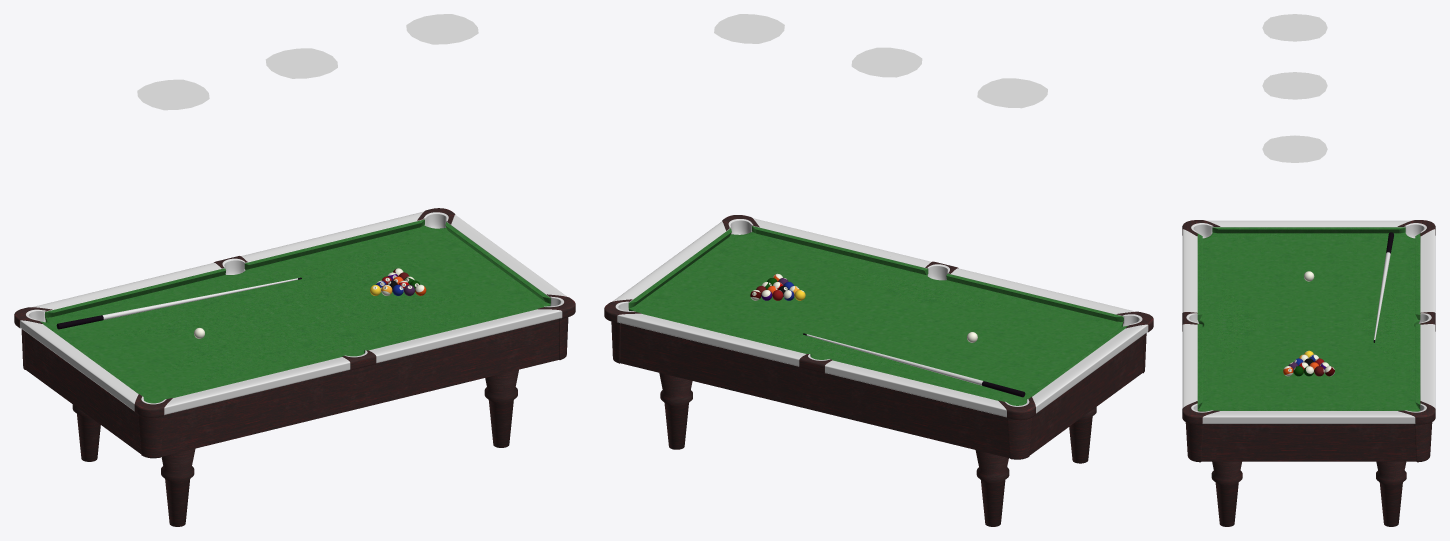
The model's file is Billiardzs.fbx.
The picture shows the model from 3 angles, left to right: view 1: azimuth 30°, elevation 25°; view 2: azimuth 150°, elevation 25°; view 3: azimuth 270°, elevation 25°; orthographic projection. The views are drawn at different scales.
Parts seen in each view (by area): view 1: Plane, Cube.001, Plane.002, tableCushion, tablePocketO, TischBeine.002, TischBeine.003, Plane.000, Plane.004, Plane.001, tableSideCorner, tablePocketI (+2 smaller); view 2: Plane, Cube.001, Plane.002, tableCushion, tablePocketO, TischBeine, TischBeine.001, Plane.001, Plane.000, Plane.004, tableSideCorner, tablePocketI (+2 smaller); view 3: Plane, Plane.002, Cube.001, tableCushion, Plane.001, TischBeine.002, Plane.000, Plane.004, TischBeine.001, tablePocketO, tableSideCorner, tablePocketI (+1 smaller).
Part boxes in pixels (left/top/right/bottom): Plane: left=45, top=225, right=550, bottom=403; Cube.001: left=24, top=317, right=559, bottom=456; Plane.002: left=20, top=211, right=567, bottom=414; tableCushion: left=40, top=219, right=550, bottom=398; tablePocketO: left=14, top=208, right=575, bottom=417; TischBeine.002: left=484, top=369, right=518, bottom=447; TischBeine.003: left=161, top=449, right=195, bottom=526; Plane.000: left=137, top=79, right=209, bottom=110; Plane.004: left=406, top=14, right=478, bottom=44; Plane.001: left=265, top=48, right=337, bottom=78; tableSideCorner: left=21, top=317, right=568, bottom=458; tablePocketI: left=25, top=212, right=563, bottom=404; Plane: left=628, top=232, right=1122, bottom=405; Cube.001: left=620, top=322, right=1143, bottom=458; Plane.002: left=612, top=218, right=1148, bottom=417; tableCushion: left=628, top=226, right=1127, bottom=401; tablePocketO: left=604, top=215, right=1153, bottom=420; TischBeine: left=975, top=450, right=1009, bottom=526; TischBeine.001: left=659, top=373, right=692, bottom=449; Plane.001: left=851, top=47, right=922, bottom=77; Plane.000: left=977, top=78, right=1047, bottom=108; Plane.004: left=714, top=14, right=784, bottom=43; tableSideCorner: left=611, top=321, right=1146, bottom=459; tablePocketI: left=615, top=219, right=1142, bottom=406; Plane: left=1197, top=232, right=1420, bottom=411; Plane.002: left=1182, top=220, right=1435, bottom=423; Cube.001: left=1201, top=424, right=1416, bottom=461; tableCushion: left=1197, top=227, right=1420, bottom=410; Plane.001: left=1262, top=72, right=1327, bottom=99; TischBeine.002: left=1211, top=461, right=1242, bottom=526; Plane.000: left=1262, top=14, right=1327, bottom=41; Plane.004: left=1262, top=135, right=1327, bottom=162; TischBeine.001: left=1376, top=461, right=1406, bottom=526; tablePocketO: left=1182, top=220, right=1435, bottom=424; tableSideCorner: left=1185, top=422, right=1432, bottom=462; tablePocketI: left=1186, top=223, right=1431, bottom=412.
Bounding box in the file's own units: 256 × 221 × 139.
